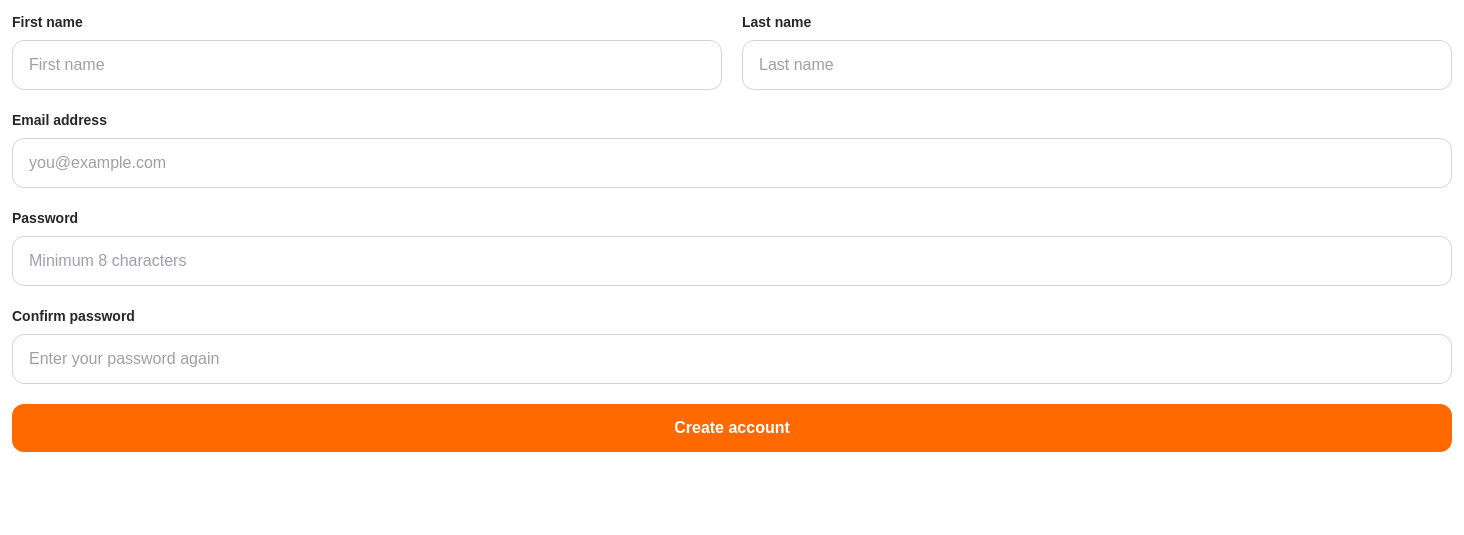
Test case: registration form › shows API errors and allows another submission
This screenshot has width=1464, height=535.
Type " Test " into the field labelled "First name".
click(367, 65); type(" Test ")  # box left=12, top=40, right=722, bottom=90
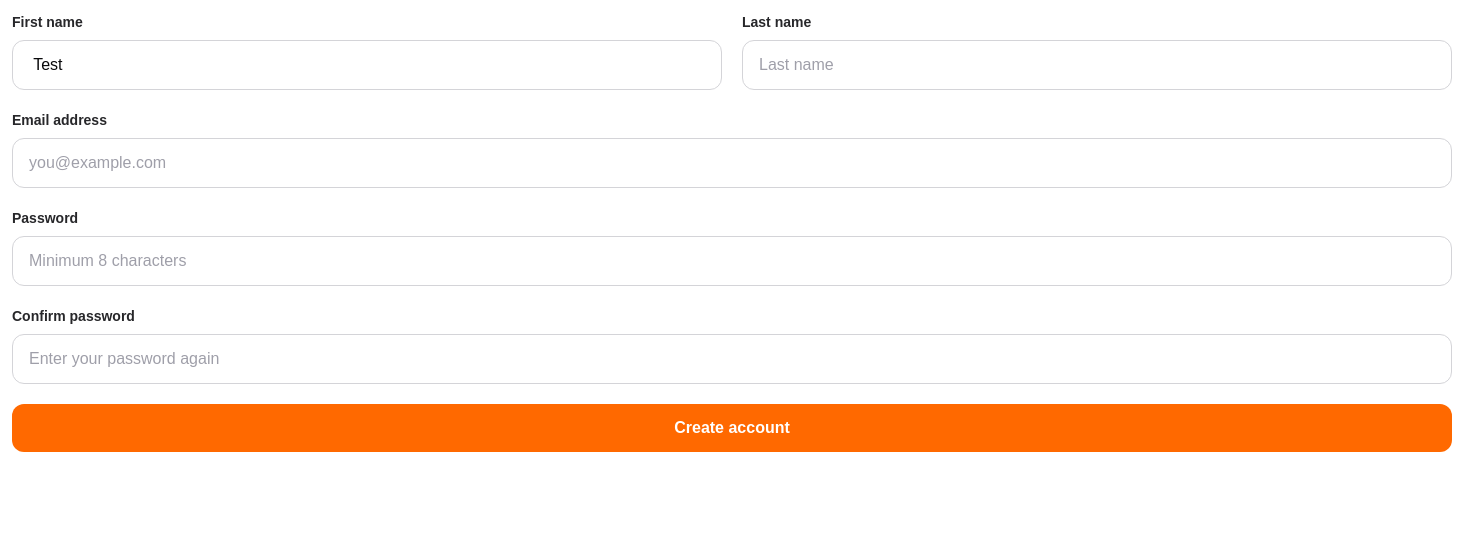
Type " User " into the field labelled "Last name".
click(1097, 65); type(" User ")  # box left=742, top=40, right=1452, bottom=90
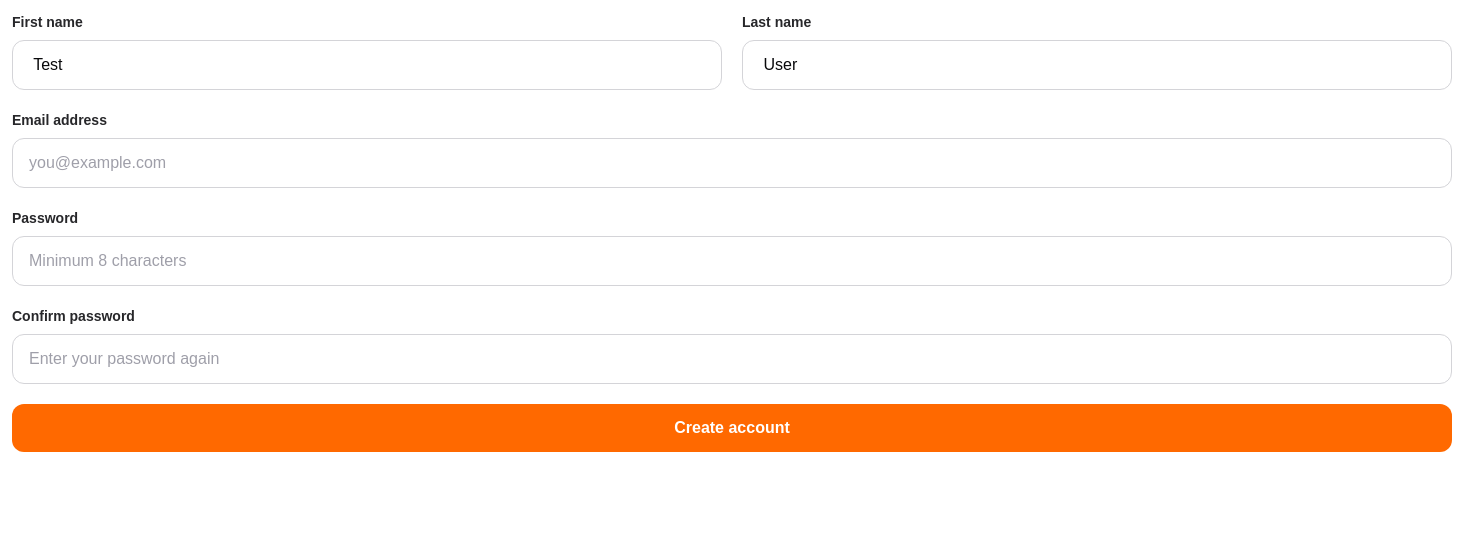
Type "test@example.com" into the field labelled "Email address".
click(732, 163); type("test@example.com")  # box left=12, top=138, right=1452, bottom=188
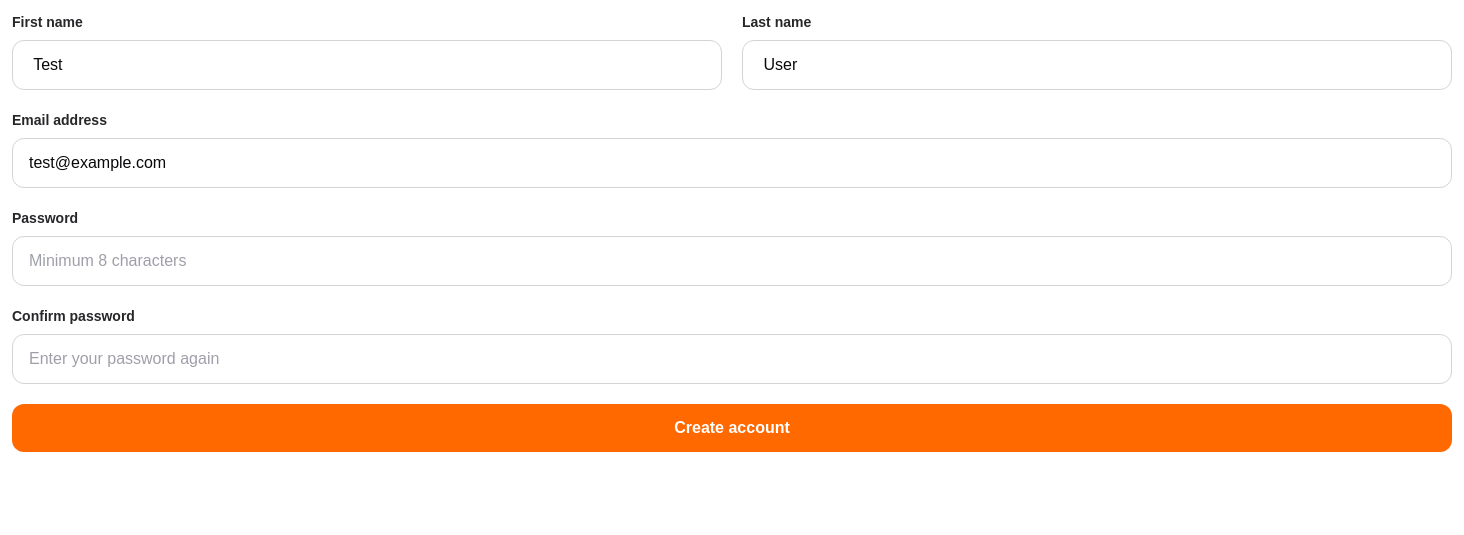
Type "TestPassword123" into the password field labelled "Password".
click(732, 261); type("TestPassword123")  # box left=12, top=236, right=1452, bottom=286
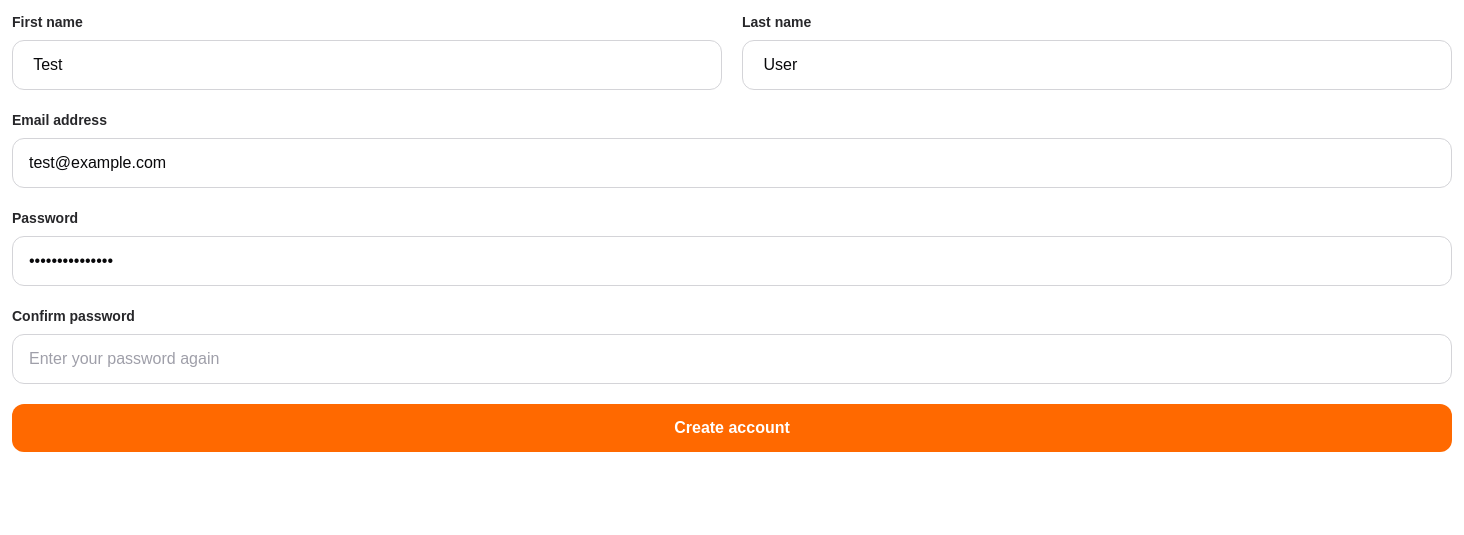
Type "TestPassword123" into the password field labelled "Confirm password".
click(732, 359); type("TestPassword123")  # box left=12, top=334, right=1452, bottom=384
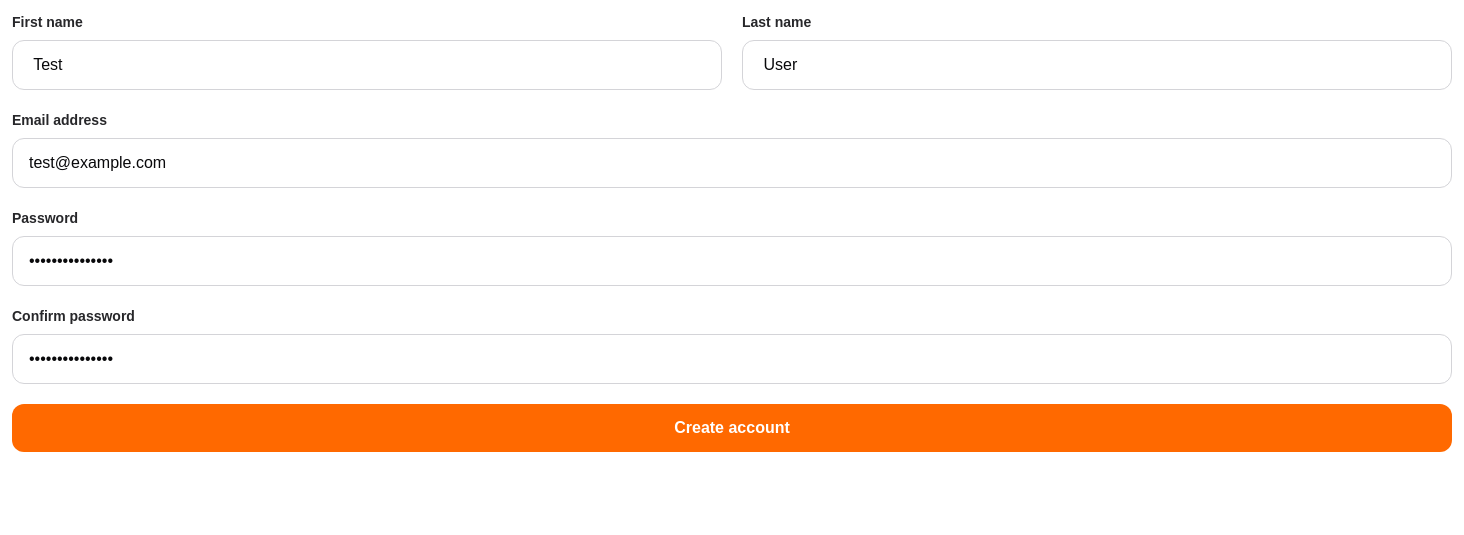
Submit the form "Create account"
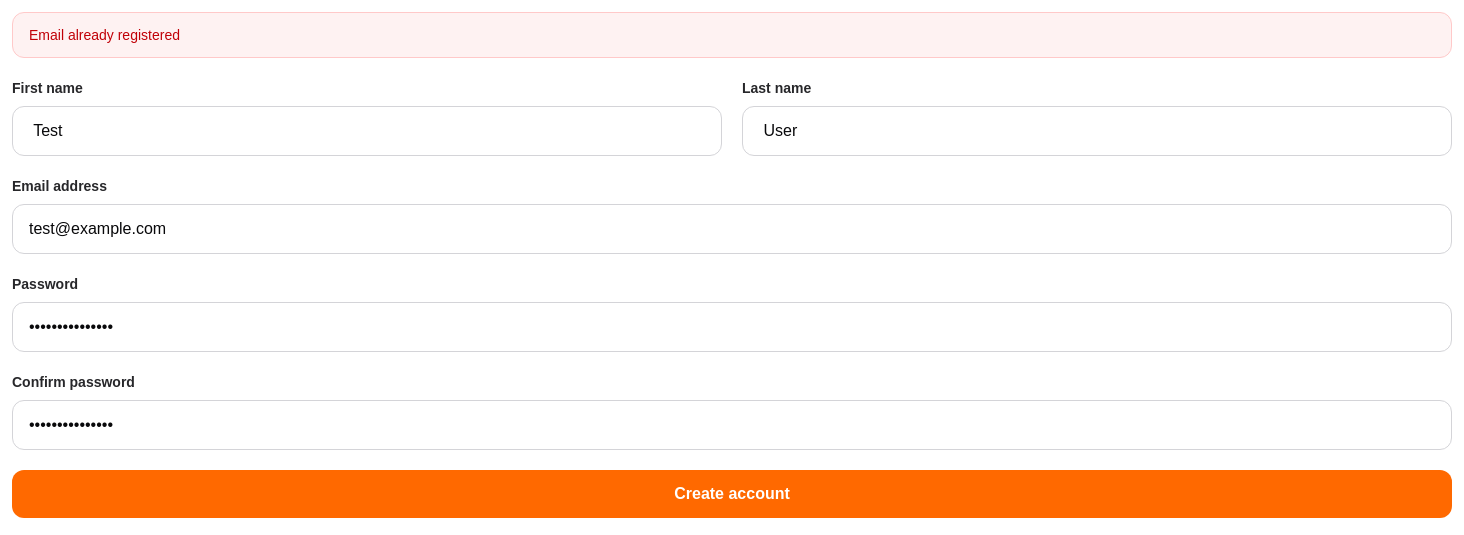
Check: the button "Create account" is enabled, box left=12, top=470, right=1452, bottom=518
Check: the message reads "Email already registered", box left=29, top=27, right=180, bottom=43
